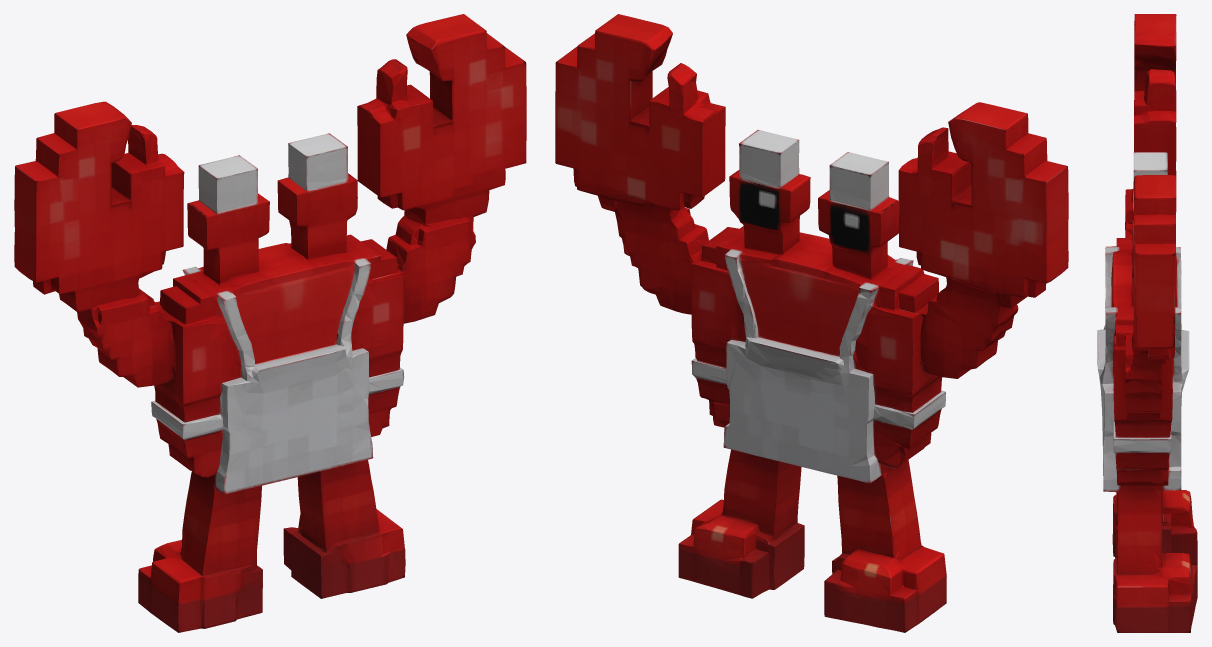
File: ChefCrabracadabra.glb
3 views of the same model, side by side, from view 1: azimuth 30°, elevation 25°; view 2: azimuth 150°, elevation 25°; view 3: azimuth 270°, elevation 25° (orthographic). The views are drawn at different scales.
Parts seen in each view (by area): view 1: geometry_0; view 2: geometry_0; view 3: geometry_0.
Boxes of the visible parts, x1=… form: geometry_0: x1=14, y1=14, x2=526, y2=632; geometry_0: x1=555, y1=14, x2=1068, y2=632; geometry_0: x1=1097, y1=14, x2=1197, y2=632.
Size of the model in its own units: 0.9894 by 1 by 0.1911.
1 material, 1 textured.
